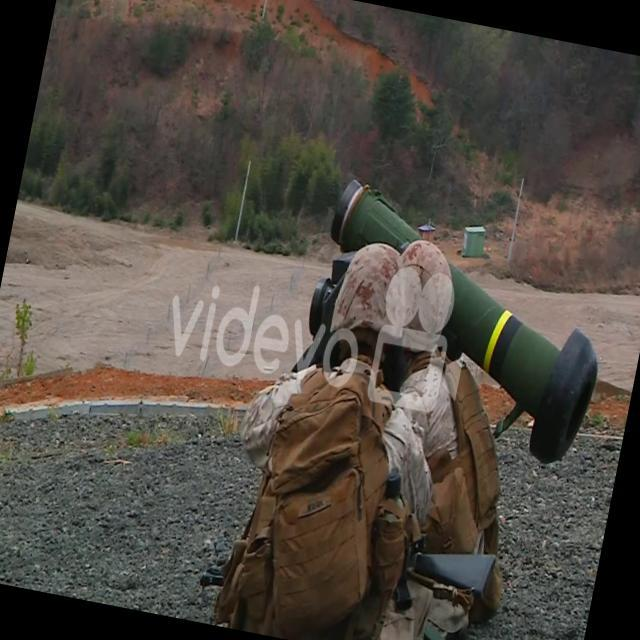rocket: (302, 174, 626, 466)
